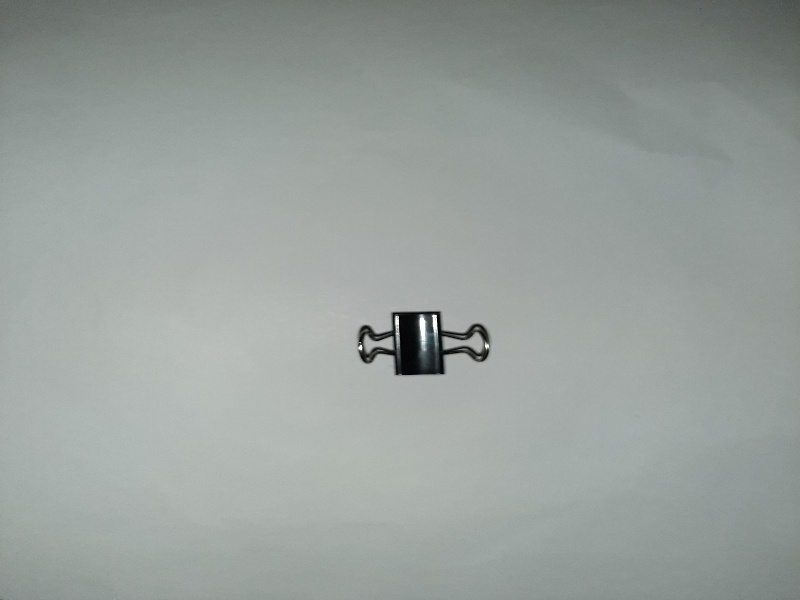Big Paperclip: (353, 303, 496, 385)
